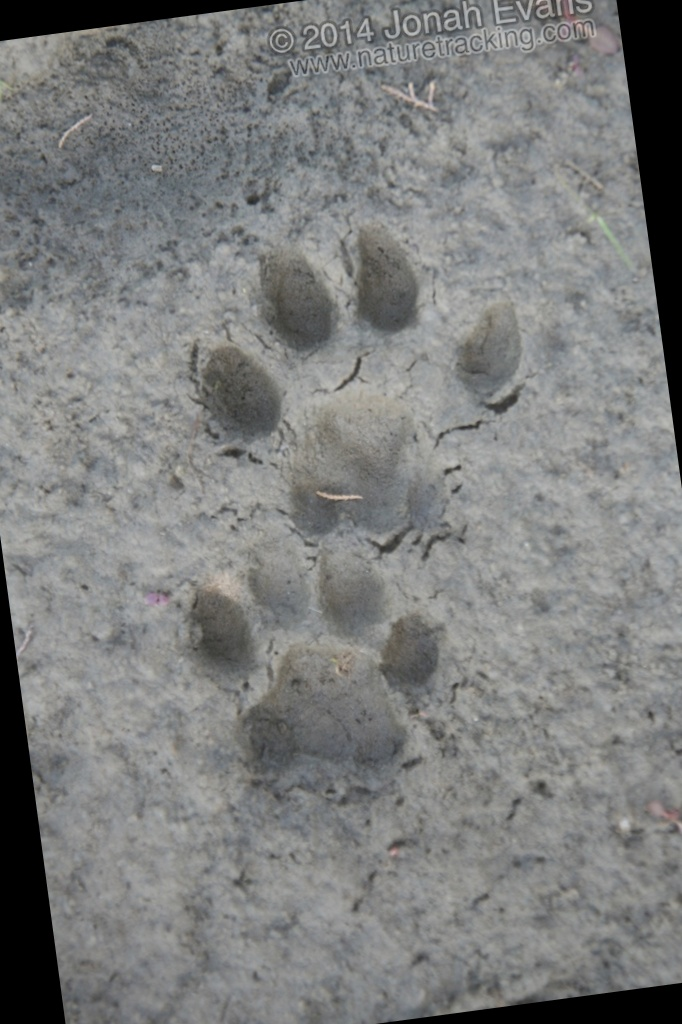lynx: (100, 183, 610, 832)
